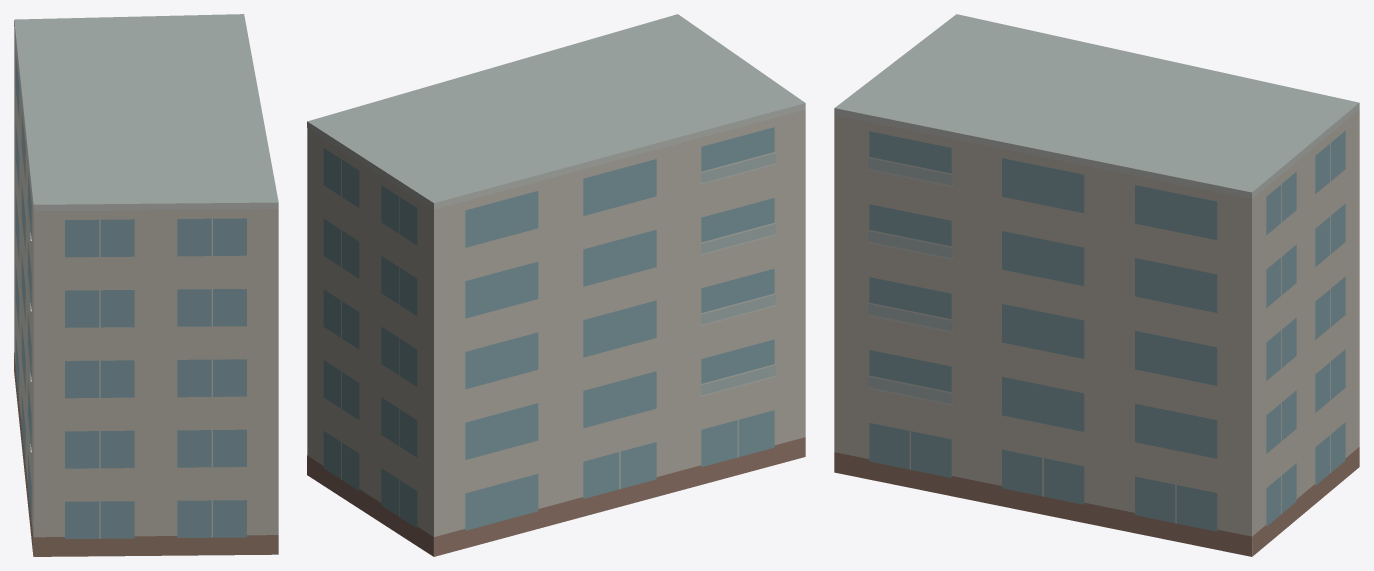
File: survey-upis-32918065.glb
3 views of the same model, side by side, from view 1: azimuth 30°, elevation 25°; view 2: azimuth 150°, elevation 25°; view 3: azimuth 270°, elevation 25° (orthographic). The views are drawn at different scales.
Parts seen in each view (by area): view 1: survey-upis-32918065.tmp; view 2: survey-upis-32918065.tmp; view 3: survey-upis-32918065.tmp.
Part boxes in pixels (x1,y1,x2,y2): survey-upis-32918065.tmp: (14, 14, 278, 556); survey-upis-32918065.tmp: (307, 14, 805, 556); survey-upis-32918065.tmp: (834, 14, 1359, 556).
Size of the model in its own units: 13.98 by 13.3 by 17.38.
